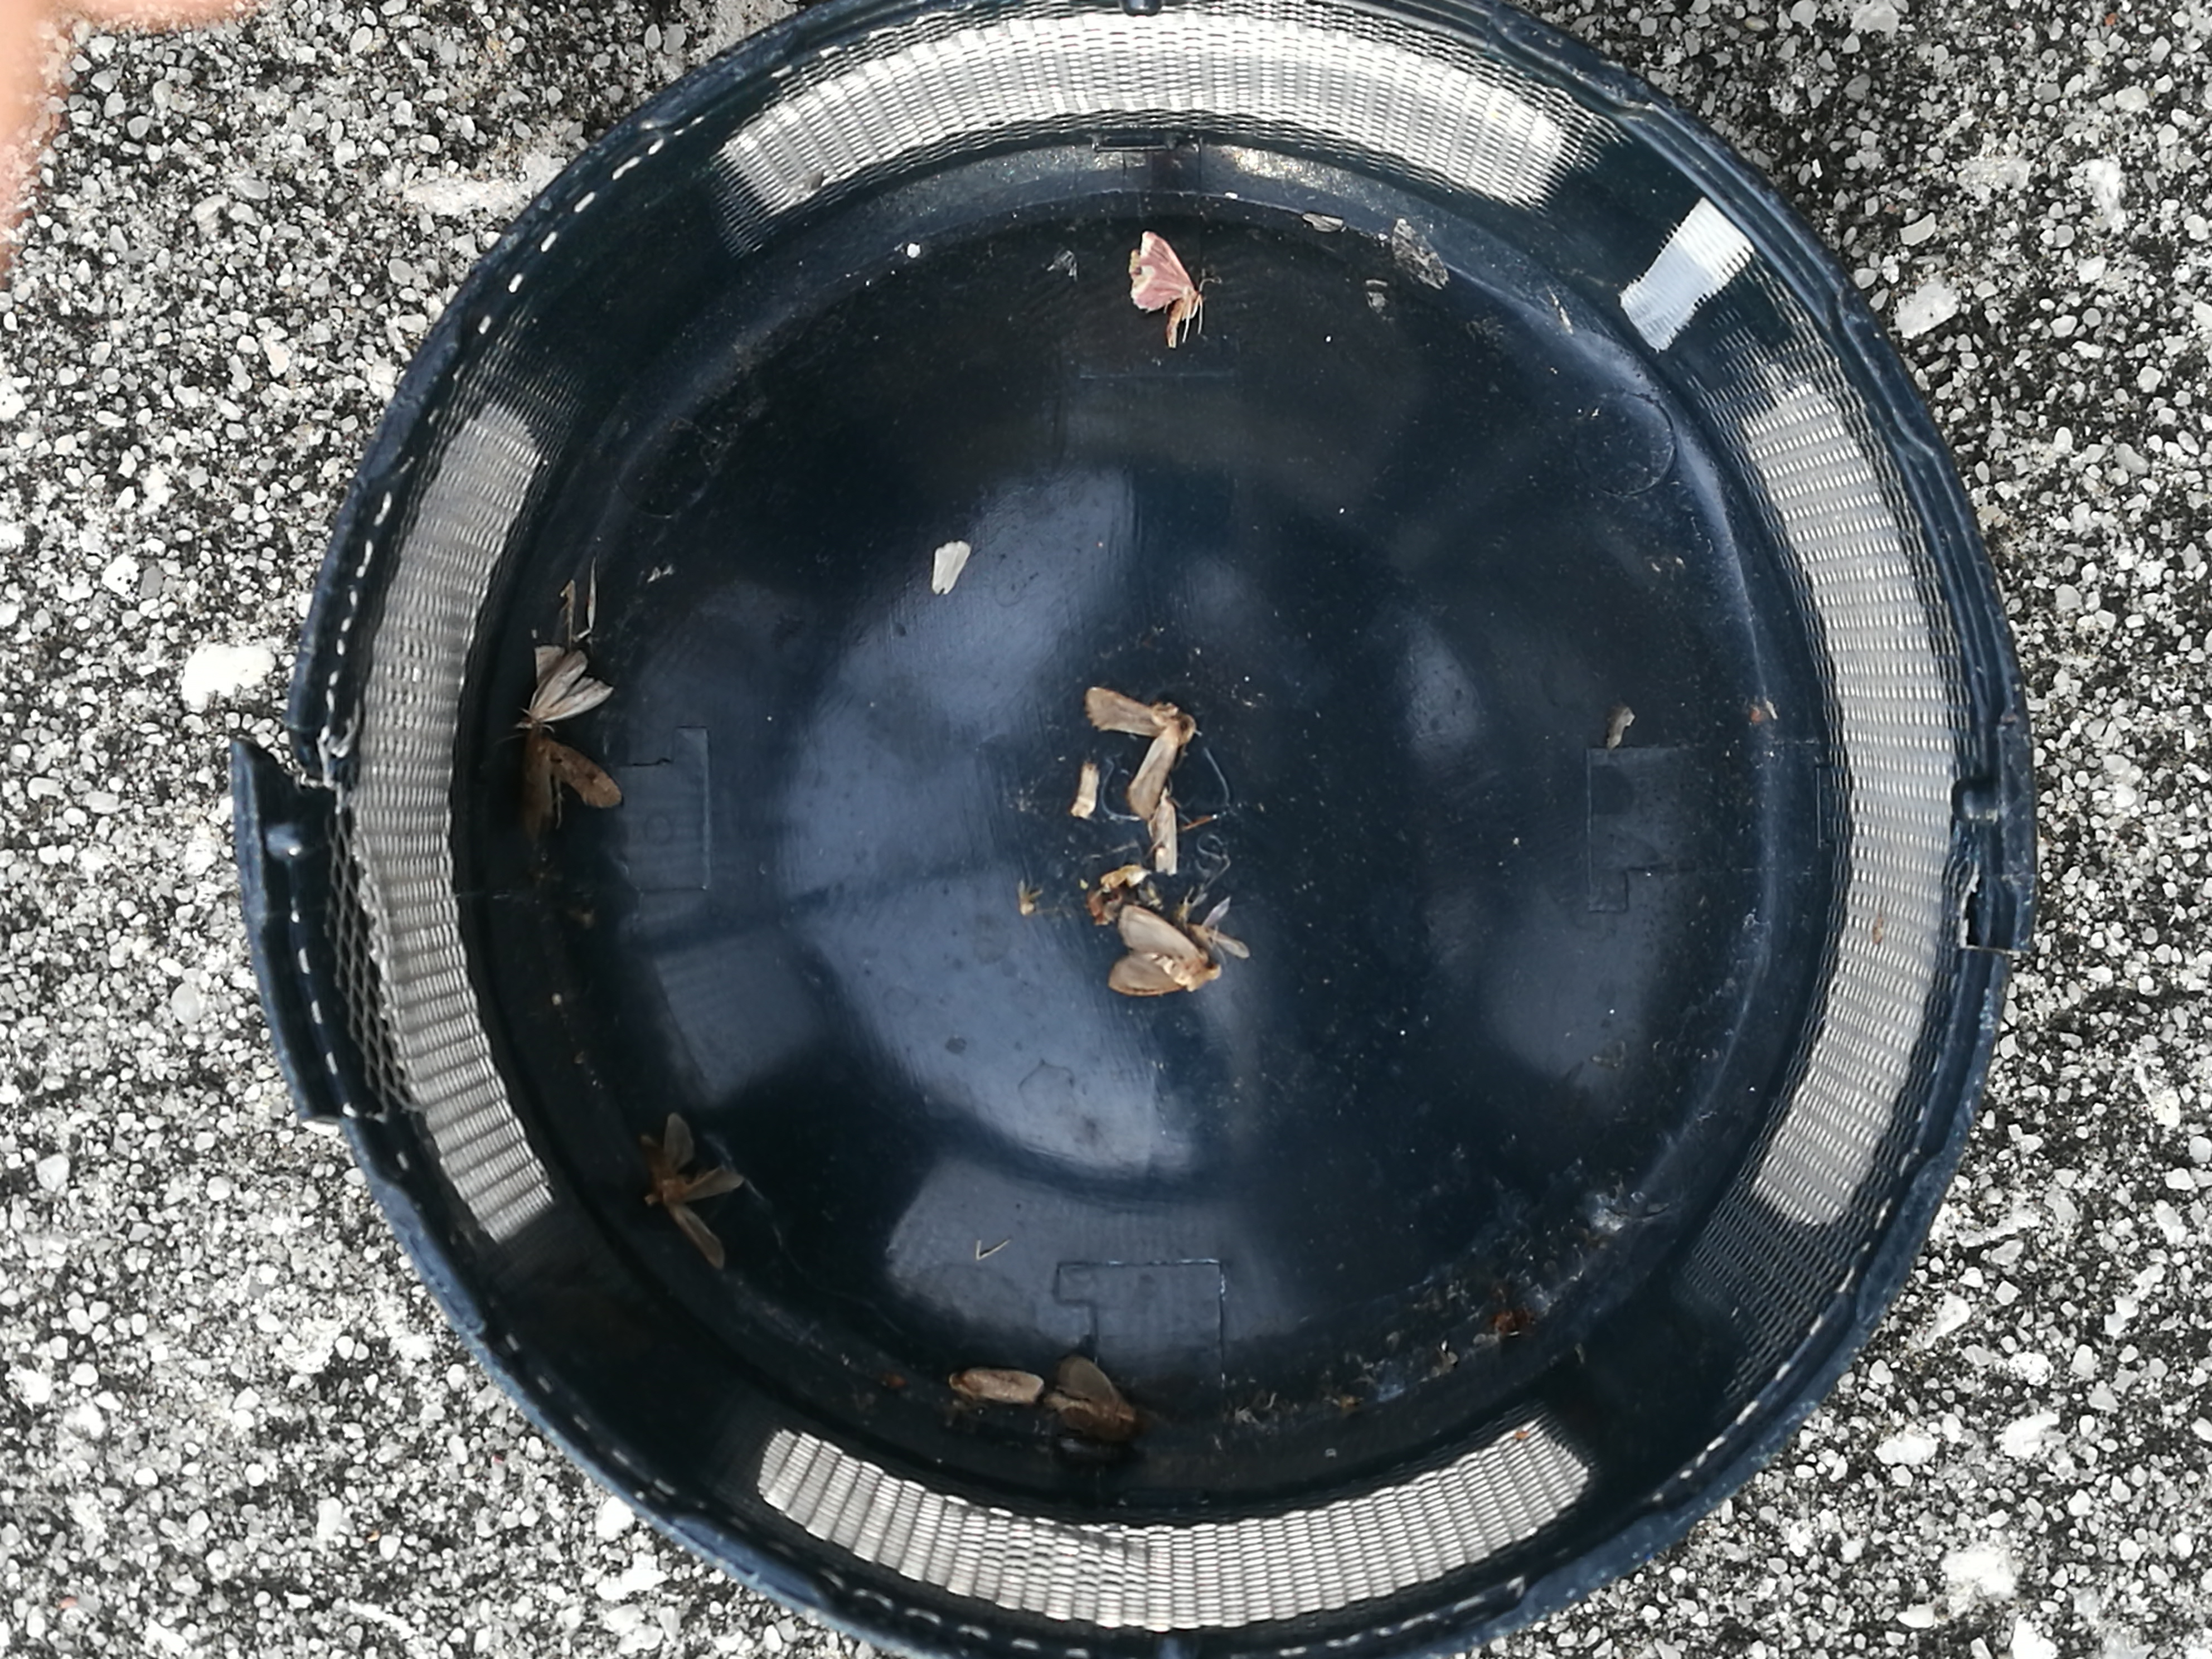mosquito: (956, 1366, 1043, 1406), (1155, 795, 1179, 875)
moth: (643, 1112, 742, 1269), (1087, 687, 1195, 819), (524, 728, 624, 843), (1104, 906, 1211, 993), (1129, 232, 1202, 347), (521, 648, 613, 730), (1047, 1358, 1132, 1439)
